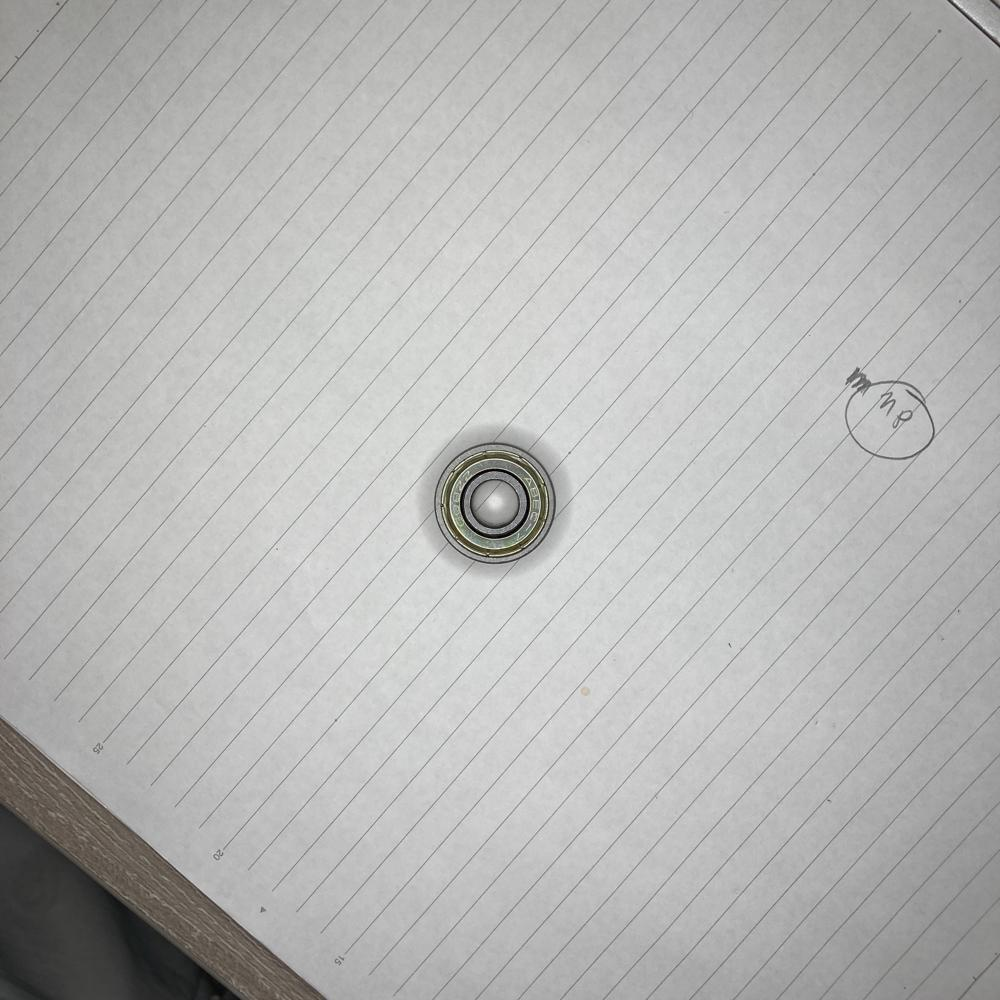ball_bearing: (432, 441, 557, 565)
